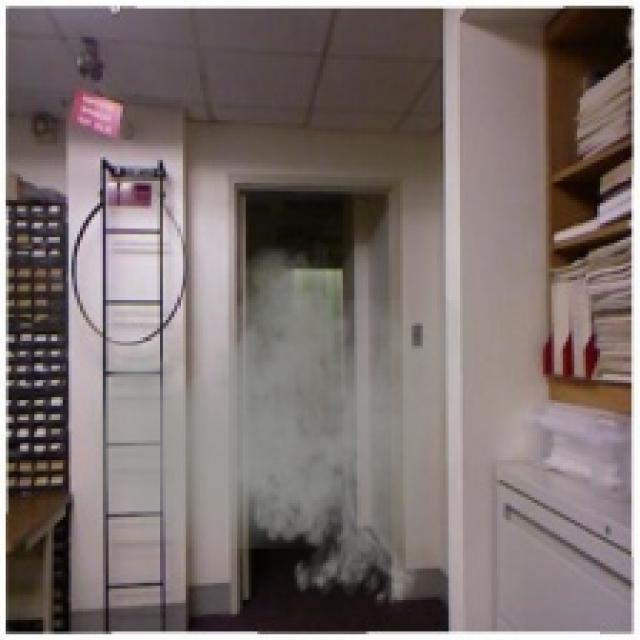Smoke: (82, 232, 468, 617)
